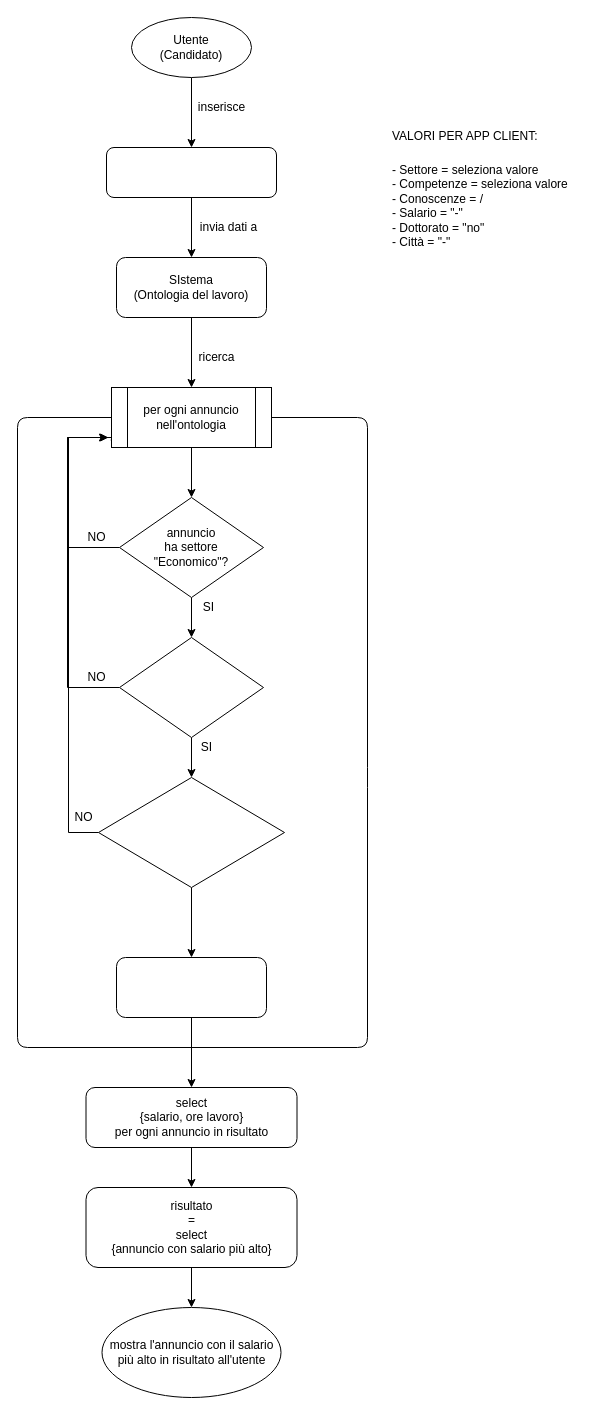
Image size: 595x1415. Some labels were removed from this diagram. The shapes that lost their labels are listed below. From the top down, each one's box as (x1, y1, x2, y2) in pixels, then its label:
(106, 146, 276, 198): - Settore = "Economico" - Competenze = "Computer"
(118, 636, 264, 738): annuncio ha competenze "Computer"?
(98, 776, 284, 888): annuncio ha (5 < ore lavoro < 9) ?
(116, 956, 266, 1018): aggiungi annuncio al risultato
